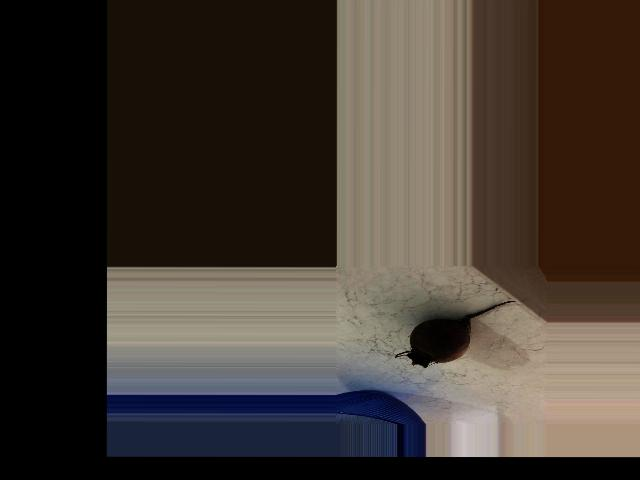beet: (395, 299, 515, 367)
